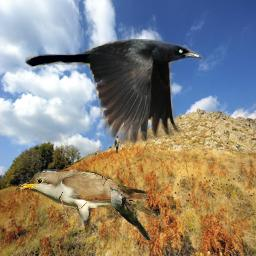Crow: (25, 37, 204, 145)
Cuckoo: (16, 169, 151, 233), (110, 187, 151, 241)
